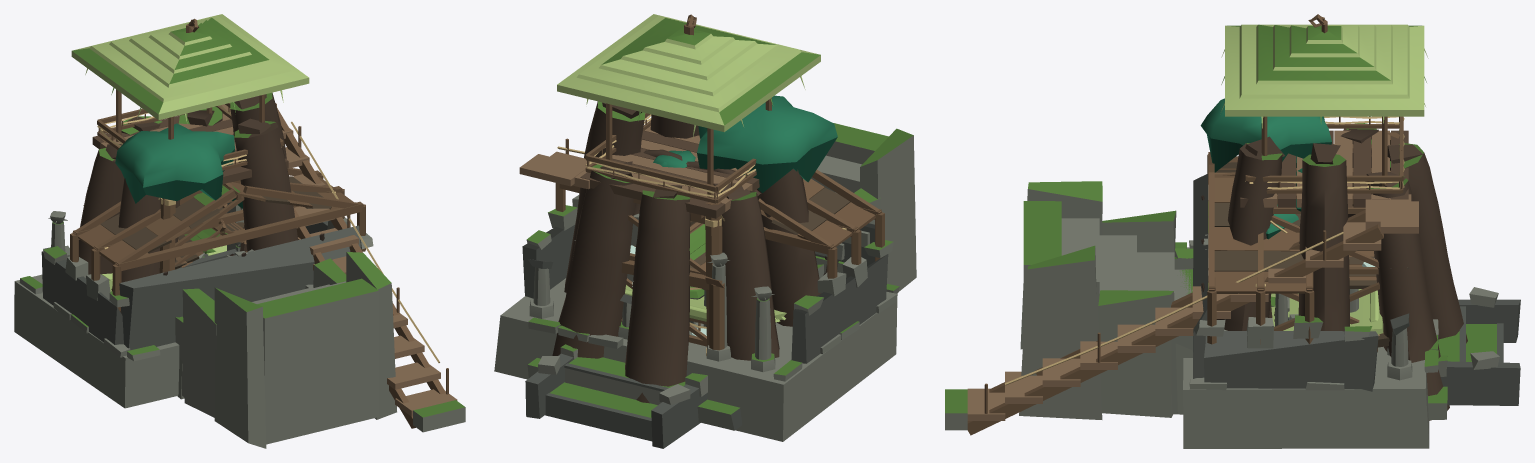
The model's file is JadeGrove_Structures.fbx.
3 views of the same model, side by side, from view 1: azimuth 30°, elevation 25°; view 2: azimuth 150°, elevation 25°; view 3: azimuth 270°, elevation 25° (orthographic). The views are drawn at different scales.
Parts seen in each view (by area): view 1: JG_Stair_Stone_S8__Stone, JG_Shrine_HallRuin_H2__StoneDark, JG_Shrine_HallRuin_H2__Stone, JG_Lookout_Tower_T1__GrassPale, JG_Hidden_HollowTrunk_X1__Trunk, JG_Shrine_HallRuin_H2__Timber, JG_Lookout_Tower_T1__Timber, JG_Shrine_HallRuin_H2__LeafMid, JG_Lookout_Tower_T1__Moss, JG_Lookout_Tower_T1__Plank, JG_Stair_Stone_S8__Moss, JG_Shrine_HallRuin_H2__Shingle (+7 smaller); view 2: JG_Hidden_HollowTrunk_X1__Trunk, JG_Shrine_HallRuin_H2__Stone, JG_Lookout_Tower_T1__GrassPale, JG_Shrine_HallRuin_H2__StoneDark, JG_Stair_Stone_S8__Stone, JG_Shrine_HallRuin_H2__Timber, JG_Shrine_HallRuin_H2__LeafMid, JG_Lookout_Tower_T1__Timber, JG_Shrine_HallRuin_H2__Moss, JG_Lookout_Tower_T1__Plank, JG_Lookout_Tower_T1__Moss, JG_Lookout_Tower_T1__PlankDark (+11 smaller); view 3: JG_Stair_Stone_S8__Stone, JG_Hidden_HollowTrunk_X1__Trunk, JG_Shrine_HallRuin_H2__Stone, JG_Shrine_HallRuin_H2__StoneDark, JG_Lookout_Tower_T1__GrassPale, JG_Lookout_Tower_T1__Plank, JG_Lookout_Tower_T1__Timber, JG_Shrine_HallRuin_H2__Timber, JG_Stair_Stone_S8__Moss, JG_Lookout_Tower_T1__Moss, JG_Shrine_HallRuin_H2__LeafMid, JG_Shrine_HallRuin_H2__Shingle (+8 smaller).
Part boxes in pixels (x1,y1,x2,y2): JG_Stair_Stone_S8__Stone: (177,252,396,448); JG_Shrine_HallRuin_H2__StoneDark: (41,221,360,350); JG_Shrine_HallRuin_H2__Stone: (14,187,373,408); JG_Lookout_Tower_T1__GrassPale: (71,14,309,123); JG_Hidden_HollowTrunk_X1__Trunk: (79,93,297,312); JG_Shrine_HallRuin_H2__Timber: (70,168,365,311); JG_Lookout_Tower_T1__Timber: (97,18,448,428); JG_Shrine_HallRuin_H2__LeafMid: (115,123,234,187); JG_Lookout_Tower_T1__Moss: (72,17,465,417); JG_Lookout_Tower_T1__Plank: (100,103,457,416); JG_Stair_Stone_S8__Moss: (183,252,391,324); JG_Shrine_HallRuin_H2__Shingle: (100,176,331,252); JG_Hidden_HollowTrunk_X1__Trunk: (552,101,820,403); JG_Shrine_HallRuin_H2__Stone: (494,195,899,441); JG_Lookout_Tower_T1__GrassPale: (557,14,820,138); JG_Shrine_HallRuin_H2__StoneDark: (522,223,888,448); JG_Stair_Stone_S8__Stone: (811,135,916,291); JG_Shrine_HallRuin_H2__Timber: (555,169,884,278); JG_Shrine_HallRuin_H2__LeafMid: (697,95,837,164); JG_Lookout_Tower_T1__Timber: (565,14,771,348); JG_Shrine_HallRuin_H2__Moss: (527,205,899,417); JG_Lookout_Tower_T1__Plank: (519,126,752,211); JG_Lookout_Tower_T1__Moss: (601,18,820,125); JG_Lookout_Tower_T1__PlankDark: (580,131,759,218); JG_Stair_Stone_S8__Stone: (1019,189,1193,419); JG_Hidden_HollowTrunk_X1__Trunk: (1216,128,1467,420); JG_Shrine_HallRuin_H2__Stone: (1183,185,1499,448); JG_Shrine_HallRuin_H2__StoneDark: (1193,174,1520,405); JG_Lookout_Tower_T1__GrassPale: (1221,24,1428,128); JG_Lookout_Tower_T1__Plank: (967,130,1418,420); JG_Lookout_Tower_T1__Timber: (967,14,1403,435); JG_Shrine_HallRuin_H2__Timber: (1207,152,1314,344); JG_Stair_Stone_S8__Moss: (1023,181,1192,305); JG_Lookout_Tower_T1__Moss: (945,24,1421,413); JG_Shrine_HallRuin_H2__LeafMid: (1200,98,1331,149); JG_Shrine_HallRuin_H2__Shingle: (1214,162,1389,347).
Size of the model in its own units: 18.33 by 21.88 by 30.65.
